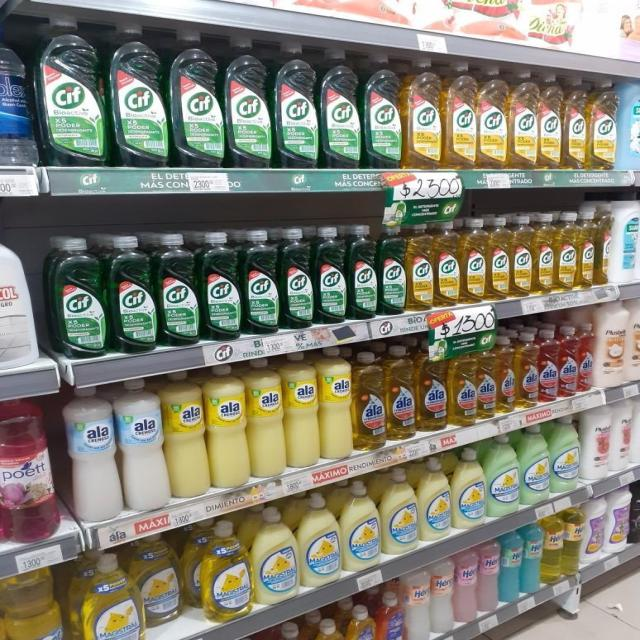ala_conc_amarillo: (353, 350, 385, 452), (386, 344, 416, 442), (417, 343, 447, 433), (448, 350, 476, 427), (516, 331, 538, 408), (476, 340, 496, 420), (497, 335, 515, 414)
ala_conc_rojo: (539, 328, 558, 404), (559, 325, 578, 398), (579, 323, 594, 393)
ala_crem_amarillo: (165, 369, 207, 499), (207, 363, 248, 490), (249, 356, 284, 479), (285, 351, 319, 469), (319, 346, 353, 461)
ala_crem_blanco: (64, 384, 120, 523), (119, 377, 166, 512)
ala_crem_rosado: (455, 548, 477, 625), (478, 540, 499, 614)
cif_conc_bot_amarilla: (403, 56, 442, 169), (444, 61, 476, 169), (478, 64, 508, 170), (508, 68, 538, 170), (589, 79, 617, 170), (538, 71, 562, 170), (407, 222, 433, 312), (434, 220, 460, 308), (563, 76, 587, 170), (461, 218, 486, 304), (487, 216, 509, 300), (511, 215, 532, 298), (533, 212, 554, 294), (556, 211, 577, 291), (578, 209, 595, 288)
cif_conc_botella_verde: (38, 15, 105, 167), (109, 22, 167, 168), (170, 29, 223, 168), (48, 236, 106, 358), (225, 36, 271, 168), (274, 40, 318, 169), (109, 235, 156, 353), (320, 46, 361, 169), (157, 233, 199, 346), (200, 231, 241, 341), (363, 52, 401, 170), (242, 229, 279, 335), (280, 227, 314, 329), (315, 226, 346, 324), (348, 224, 377, 320), (379, 222, 406, 316)
heroe: (404, 568, 429, 640), (431, 558, 453, 635), (499, 528, 521, 604), (522, 519, 542, 595), (563, 507, 583, 580), (542, 512, 562, 584), (273, 621, 309, 640)
magistral_con_amarillo: (201, 519, 251, 622), (82, 552, 138, 640), (138, 535, 181, 628)
magistral_con_crema: (253, 505, 298, 603), (300, 491, 340, 586), (342, 478, 380, 570), (382, 466, 418, 554), (487, 433, 519, 517), (420, 456, 451, 542), (453, 448, 485, 529), (551, 414, 580, 494)
odex: (349, 604, 377, 640), (315, 617, 347, 640)
